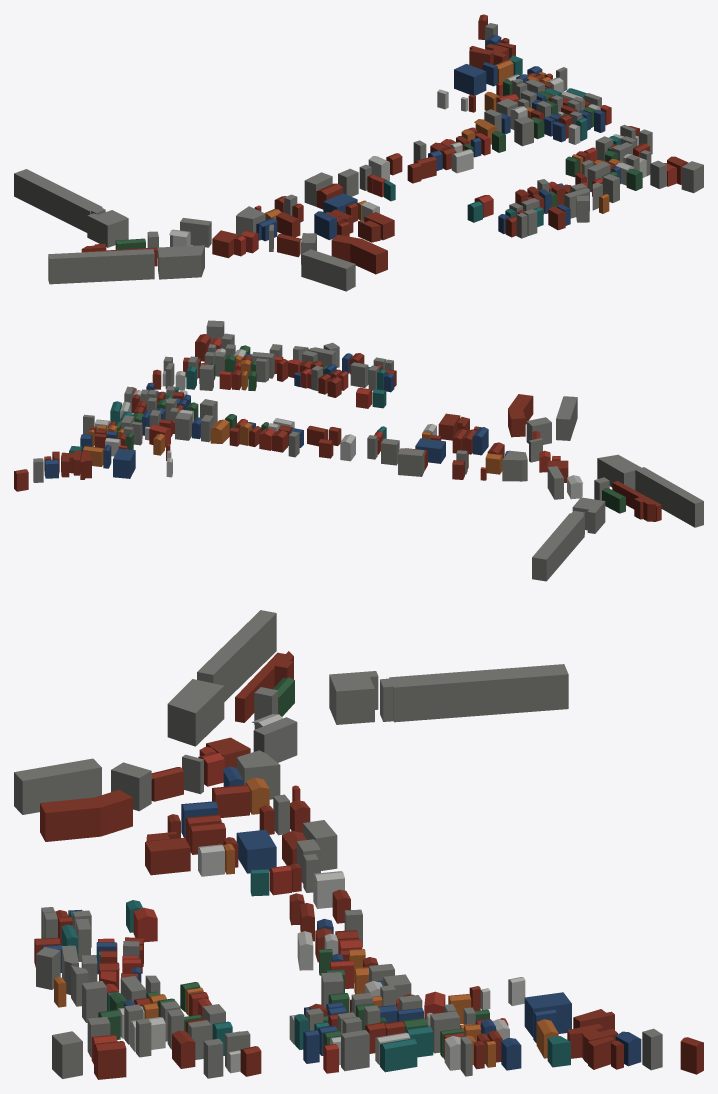
The model's file is near-16-54719-29730.604a164a.glb.
3 renders of one model, top to bottom at view 1: azimuth 30°, elevation 25°; view 2: azimuth 150°, elevation 25°; view 3: azimuth 270°, elevation 25°, orthographic. The views are drawn at different scales.
Size of the model in its own units: 631 by 29.41 by 425.
